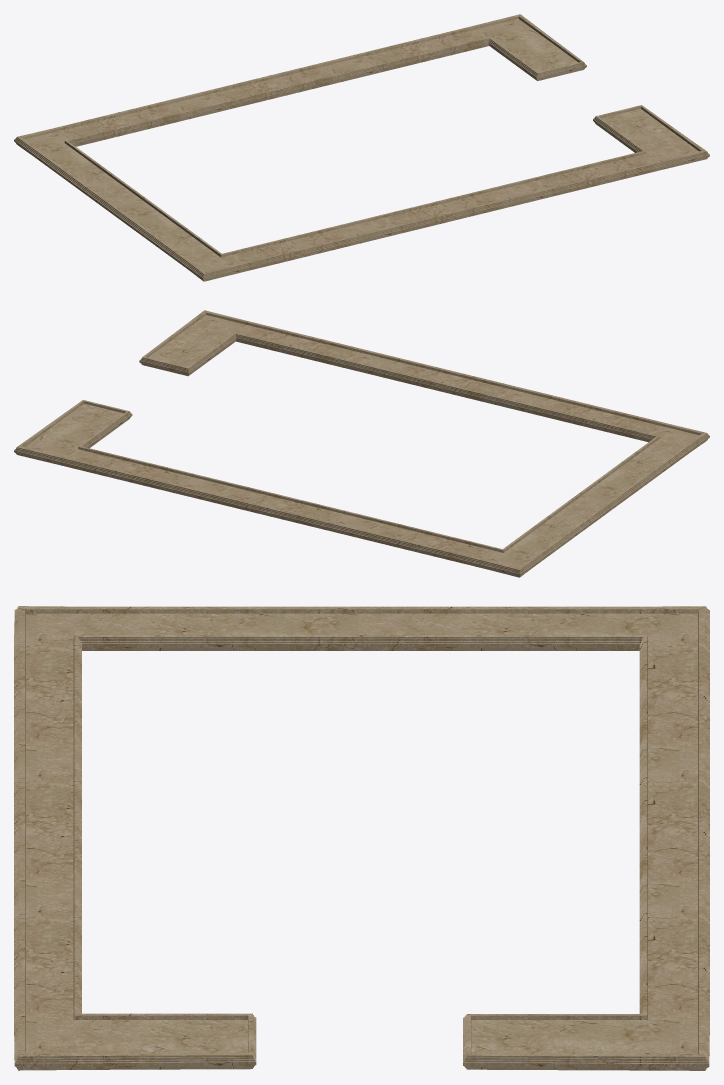
The model's file is pasted__stone_column_978.fbx.
3 views of the same model, one above another, from view 1: azimuth 30°, elevation 25°; view 2: azimuth 150°, elevation 25°; view 3: azimuth 270°, elevation 25° (orthographic). The views are drawn at different scales.
Visible parts, largest first — view 1: pasted__stone_column_978; view 2: pasted__stone_column_978; view 3: pasted__stone_column_978.
Boxes of the visible parts, x1=… form: pasted__stone_column_978: x1=14, y1=14, x2=709, y2=281; pasted__stone_column_978: x1=14, y1=310, x2=709, y2=577; pasted__stone_column_978: x1=14, y1=606, x2=709, y2=1070.
Size of the model in its own units: 2007 by 1300 by 28.79.
